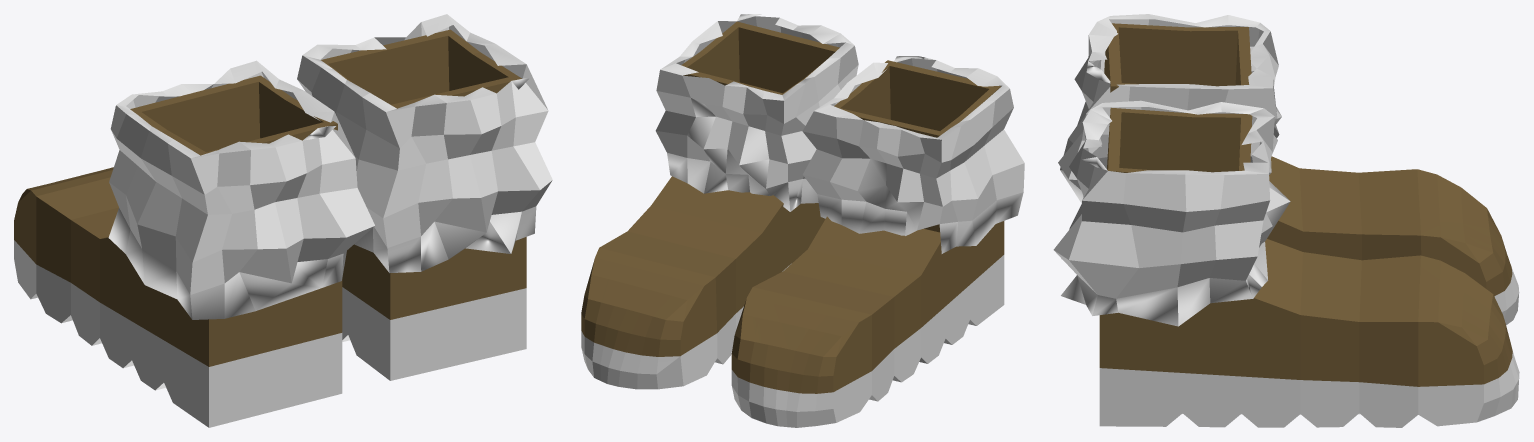
File: WinterBoots.fbx
3 views of the same model, side by side, from view 1: azimuth 30°, elevation 25°; view 2: azimuth 150°, elevation 25°; view 3: azimuth 270°, elevation 25° (orthographic). The views are drawn at different scales.
Parts seen in each view (by area): view 1: Cube, Cube.001; view 2: Cube, Cube.001; view 3: Cube.001, Cube.
Part boxes in pixels (x1,y1,x2,y2): Cube: [14, 60, 375, 427]; Cube.001: [297, 14, 552, 380]; Cube: [731, 56, 1024, 427]; Cube.001: [581, 14, 858, 389]; Cube.001: [1053, 100, 1519, 427]; Cube: [1058, 14, 1519, 325].
Bounding box in the file's own units: 0.8575 × 0.6196 × 0.9934.
